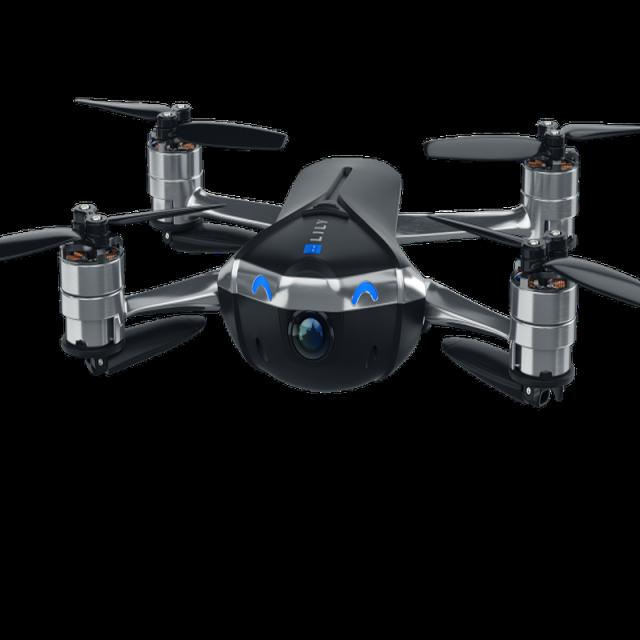drone: (3, 76, 640, 421)
